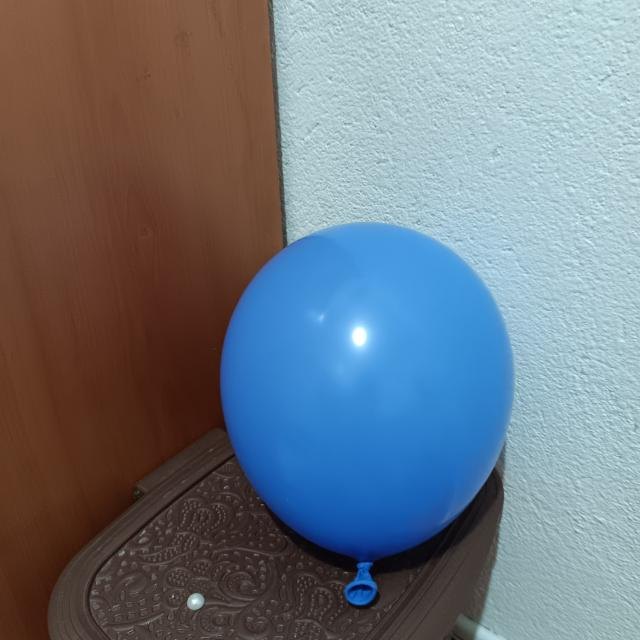blue: (222, 221, 517, 608)
